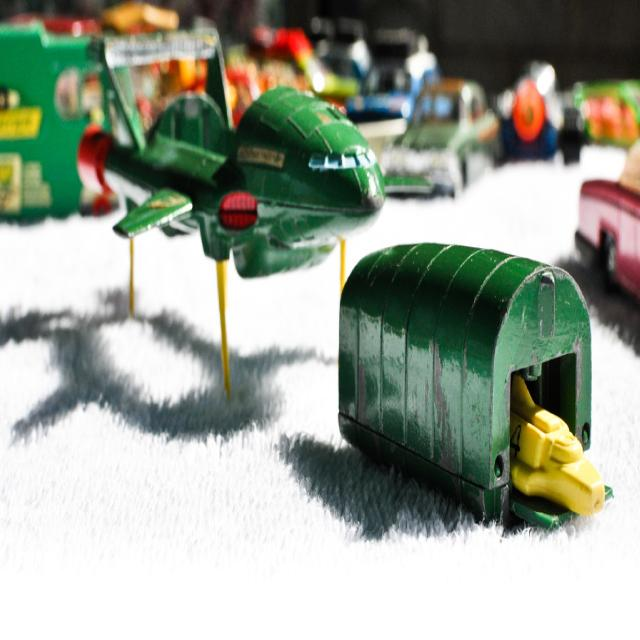Toy: (291, 131, 597, 525), (116, 79, 384, 406)
